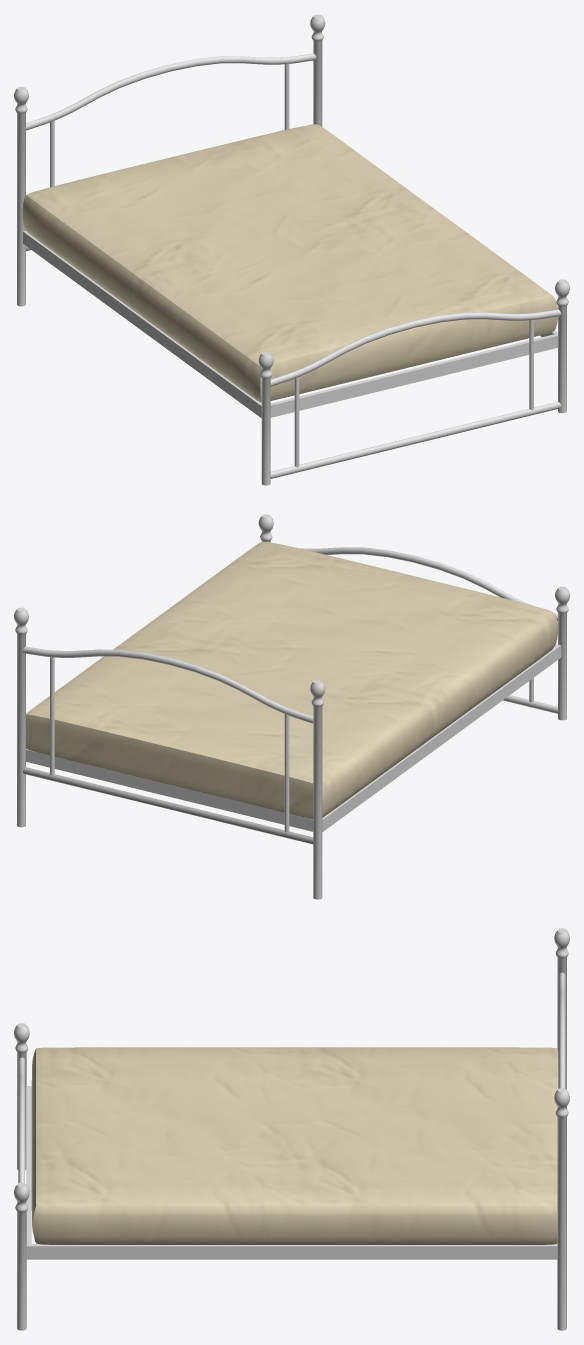
The model's file is eichhron_platform.fbx.
The picture shows the model from 3 angles, top to bottom: view 1: azimuth 30°, elevation 25°; view 2: azimuth 150°, elevation 25°; view 3: azimuth 270°, elevation 25°; orthographic projection. The views are drawn at different scales.
Visible parts, largest first — view 1: Eichhorn Platform Bed; view 2: Eichhorn Platform Bed; view 3: Eichhorn Platform Bed.
Boxes of the visible parts, <box> form: Eichhorn Platform Bed: <box>14,14,569,485</box>; Eichhorn Platform Bed: <box>14,514,569,899</box>; Eichhorn Platform Bed: <box>14,928,569,1330</box>.
Size of the model in its own units: 1.69 by 1.12 by 2.38.
